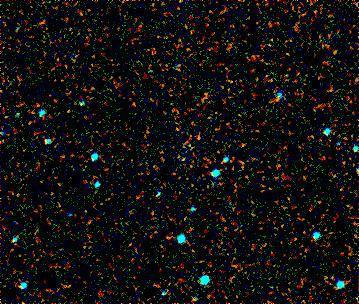star: (184, 120, 214, 150)
